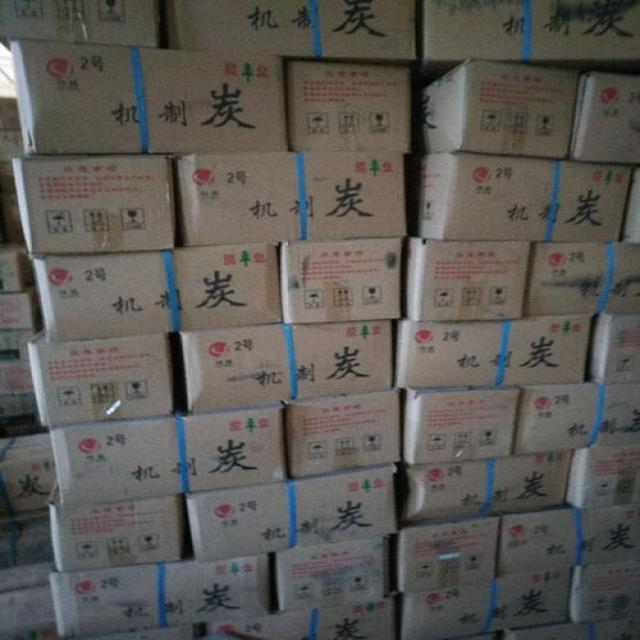box: (9, 38, 291, 154), (32, 241, 284, 341), (46, 403, 285, 506), (183, 464, 399, 565), (177, 152, 406, 243), (180, 319, 393, 412), (419, 153, 635, 242), (47, 555, 270, 635), (13, 152, 175, 257), (164, 0, 416, 60), (422, 62, 577, 159), (397, 316, 593, 388), (28, 332, 173, 425), (424, 0, 640, 61), (401, 451, 572, 526), (399, 568, 572, 639), (49, 480, 180, 573), (287, 62, 410, 154), (497, 501, 640, 578), (404, 239, 531, 320), (513, 376, 640, 457), (282, 238, 403, 323), (402, 384, 524, 466), (287, 390, 399, 477), (521, 239, 640, 318), (274, 534, 390, 613), (205, 594, 397, 640), (394, 515, 502, 592), (1, 0, 161, 50), (568, 76, 639, 167), (0, 431, 60, 515), (563, 442, 640, 507), (0, 561, 59, 639), (570, 559, 640, 622), (588, 313, 640, 384), (0, 329, 38, 419), (503, 616, 640, 640), (59, 622, 198, 640), (0, 282, 44, 331), (1, 242, 35, 293), (621, 166, 640, 242)
